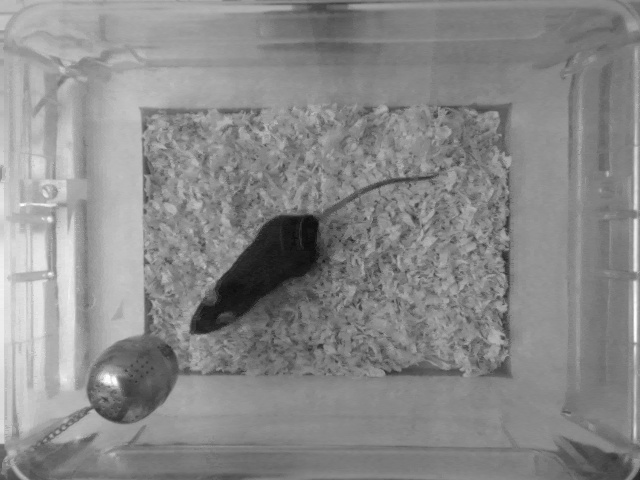mice: (187, 166, 443, 347)
